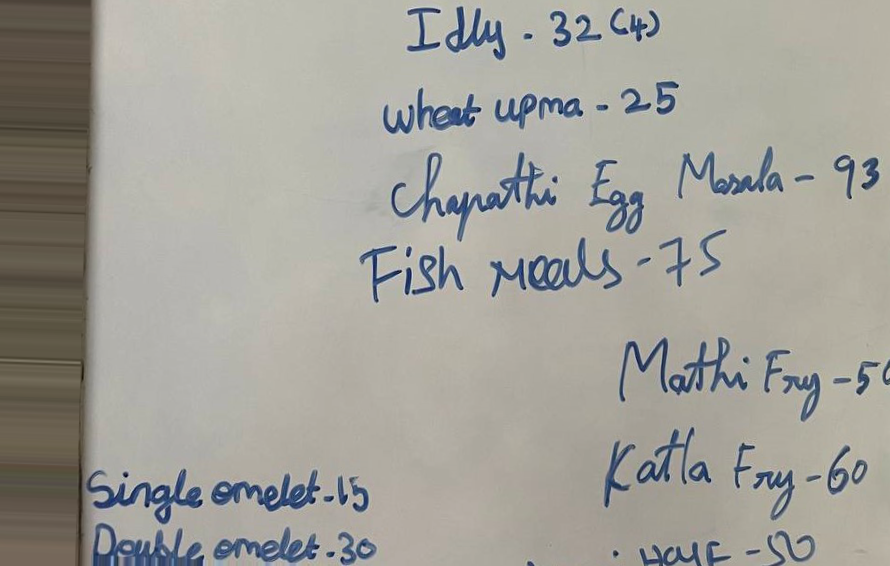chapathi egg masala - 93: (389, 148, 890, 228)
double omelet - 30: (89, 520, 381, 565)
fish Meals - 75: (356, 227, 733, 311)
idly(4) - 32: (393, 1, 663, 59)
katla fry - 60: (598, 428, 890, 514)
mathi fry - 50: (616, 331, 890, 417)
single omelet - 15: (86, 466, 375, 520)
wheat upma - 25: (376, 75, 689, 137)
